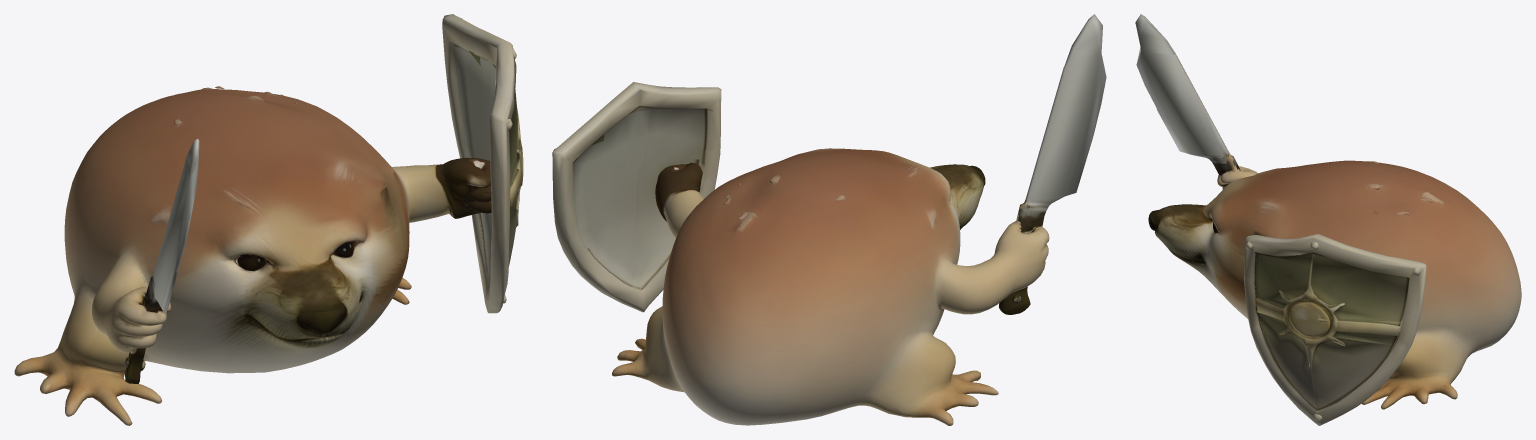
Rendered from daodun.glb.
The picture shows the model from 3 angles, left to right: view 1: azimuth 30°, elevation 25°; view 2: azimuth 150°, elevation 25°; view 3: azimuth 270°, elevation 25°; orthographic projection. The views are drawn at different scales.
Visible parts, largest first — view 1: material; view 2: material; view 3: material.
Part boxes in pixels (bbox=[...]): material: bbox=[14, 14, 523, 425]; material: bbox=[552, 14, 1106, 425]; material: bbox=[1135, 14, 1521, 425].
Size of the model in its own units: 1.9 by 1.44 by 1.89.
Materials: 1 (1 with a texture image).
